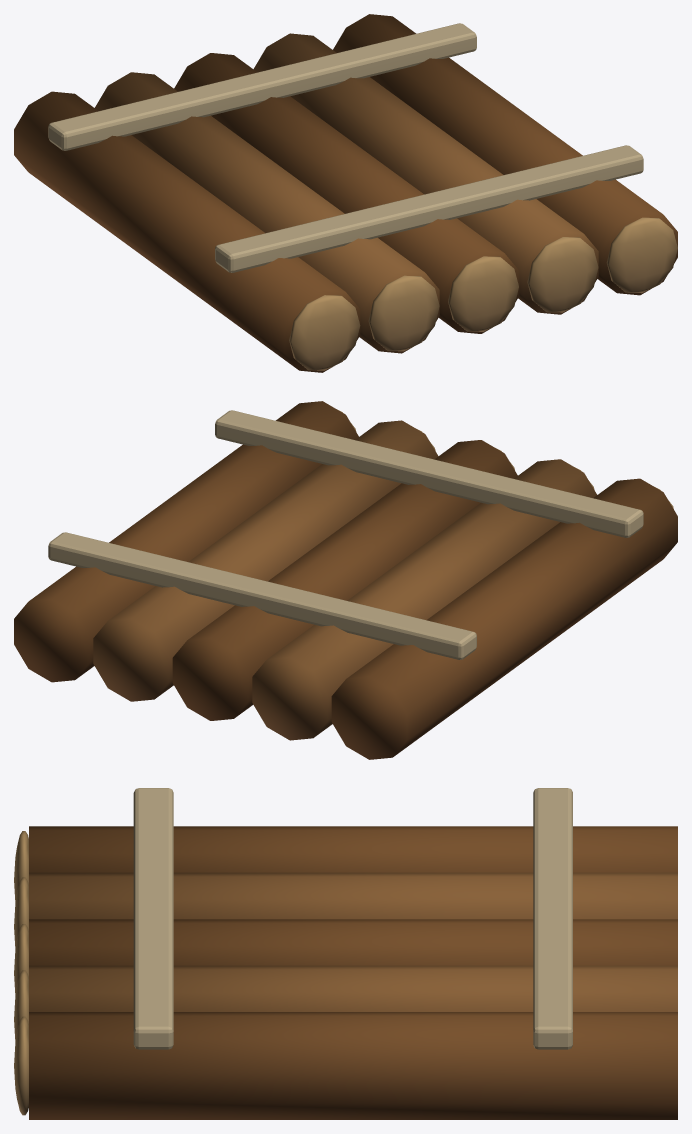
File: raft.glb
3 views of the same model, one above another, from view 1: azimuth 30°, elevation 25°; view 2: azimuth 150°, elevation 25°; view 3: azimuth 270°, elevation 25° (orthographic). The views are drawn at different scales.
Visible parts, largest first — view 1: raft; view 2: raft; view 3: raft.
Part boxes in pixels (x1,y1,x2,y2): raft: (14,14,677,372); raft: (14,401,677,759); raft: (14,788,677,1119).
Bounding box in the file's own units: 1.15 × 0.255 × 1.33.
